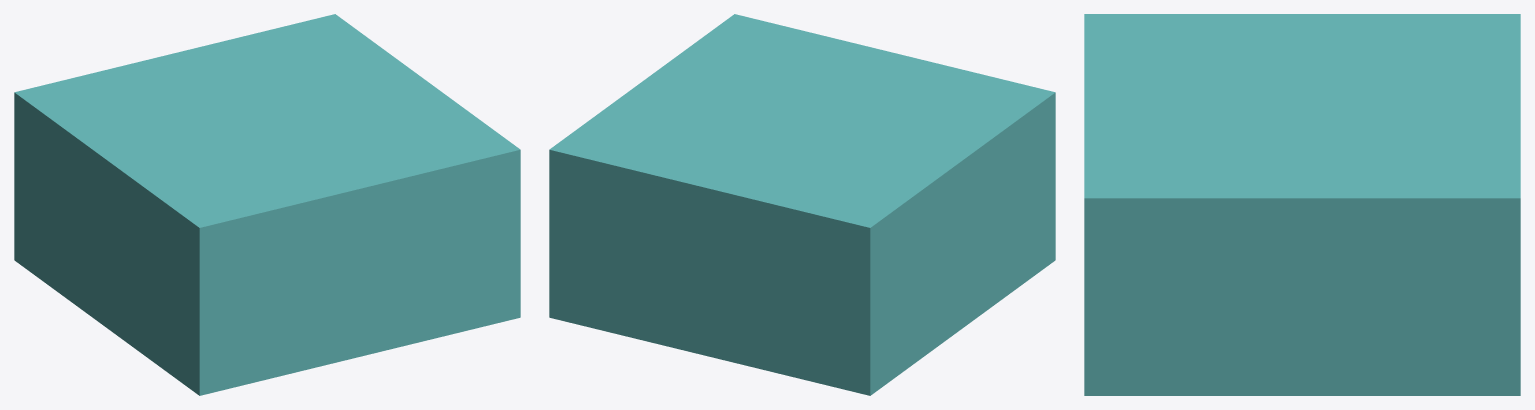
The model's file is OneWay_TopHalf.glb.
The picture shows the model from 3 angles, left to right: view 1: azimuth 30°, elevation 25°; view 2: azimuth 150°, elevation 25°; view 3: azimuth 270°, elevation 25°; orthographic projection. The views are drawn at different scales.
Parts seen in each view (by area): view 1: OneWay_TopHalf_body; view 2: OneWay_TopHalf_body; view 3: OneWay_TopHalf_body.
Boxes of the visible parts, box(x1,y1,x2,y2) form: OneWay_TopHalf_body: box(14, 14, 520, 395); OneWay_TopHalf_body: box(549, 14, 1055, 395); OneWay_TopHalf_body: box(1084, 14, 1520, 395).
Size of the model in its own units: 1 by 0.5 by 1.
